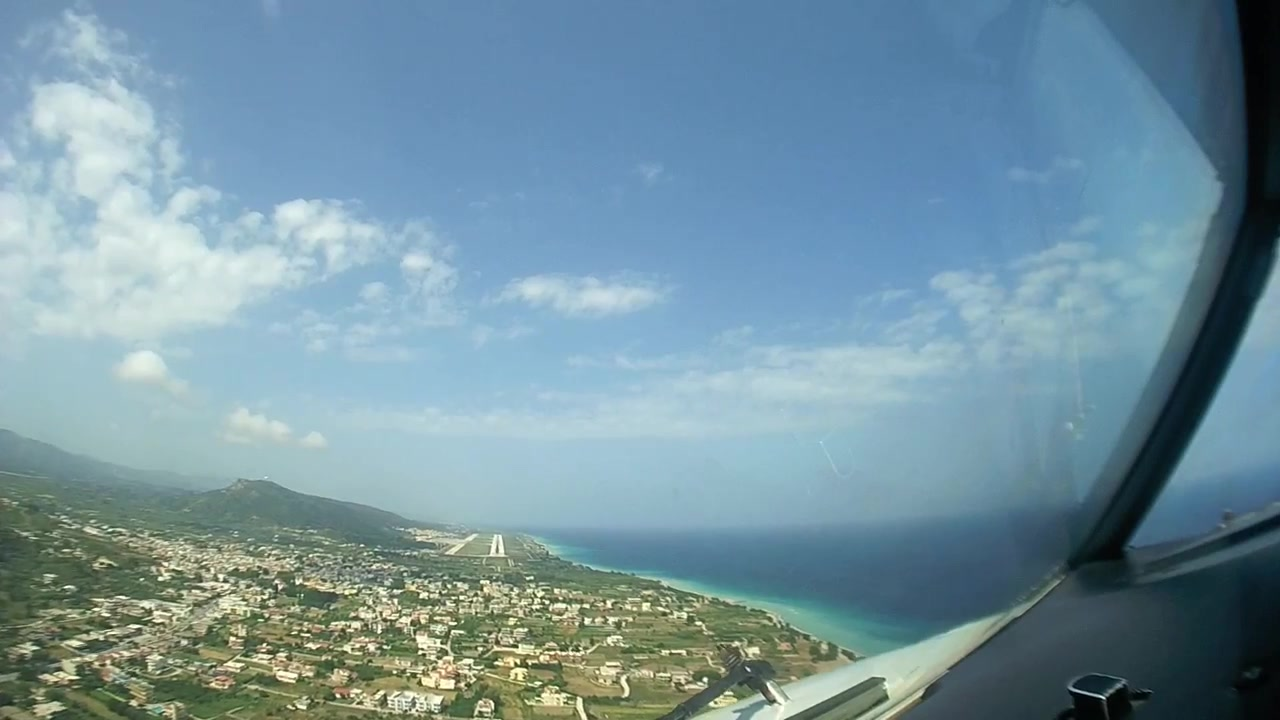runway: (487, 534, 506, 559)
